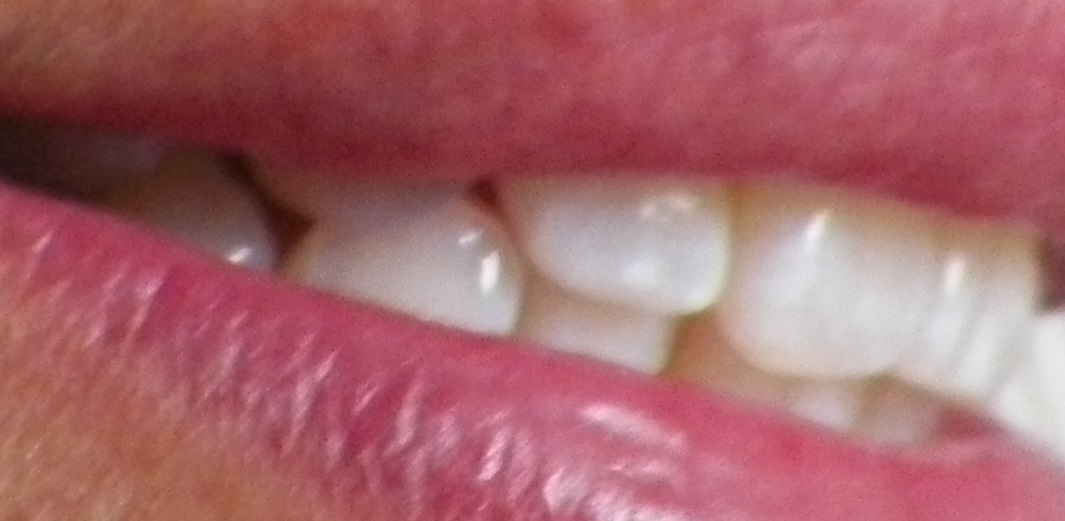boca: (32, 119, 1044, 440)
